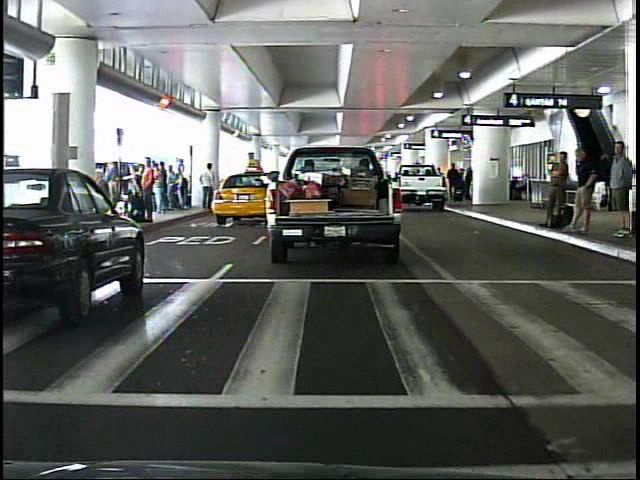person: (604, 137, 635, 242), (538, 146, 573, 236), (569, 142, 601, 238), (139, 154, 158, 222), (199, 160, 219, 214)
